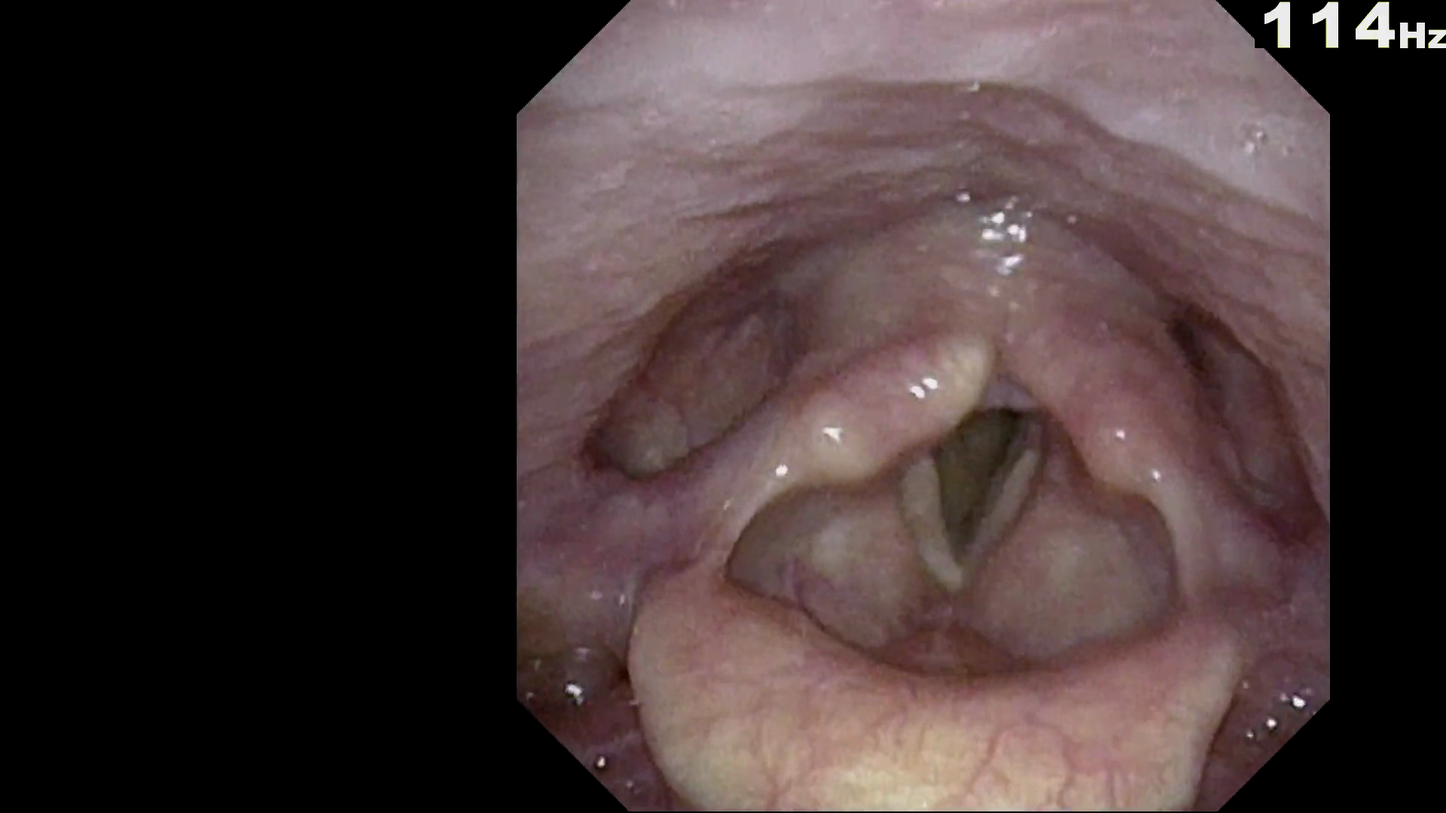epiglottis: (607, 503, 1246, 775)
trachea: (877, 367, 1056, 592)
